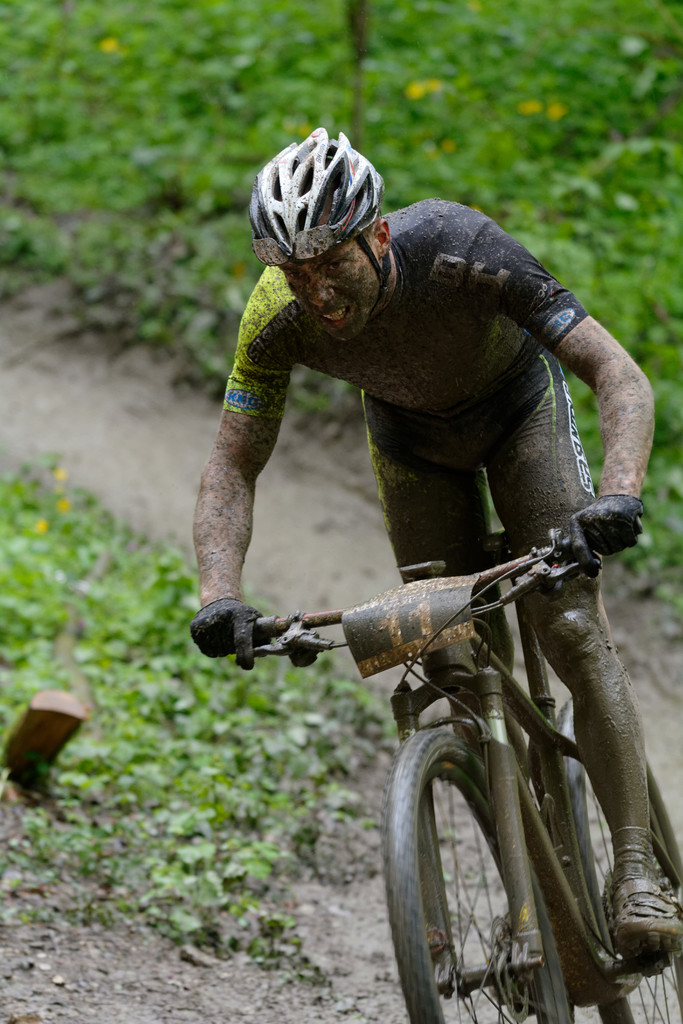Bike: (197, 542, 670, 1011)
